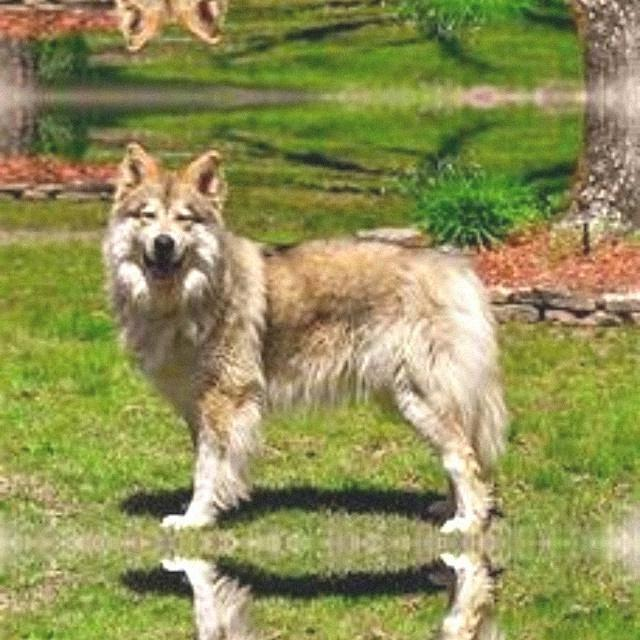dog: (42, 145, 552, 542), (42, 542, 552, 640), (42, 0, 552, 46)
